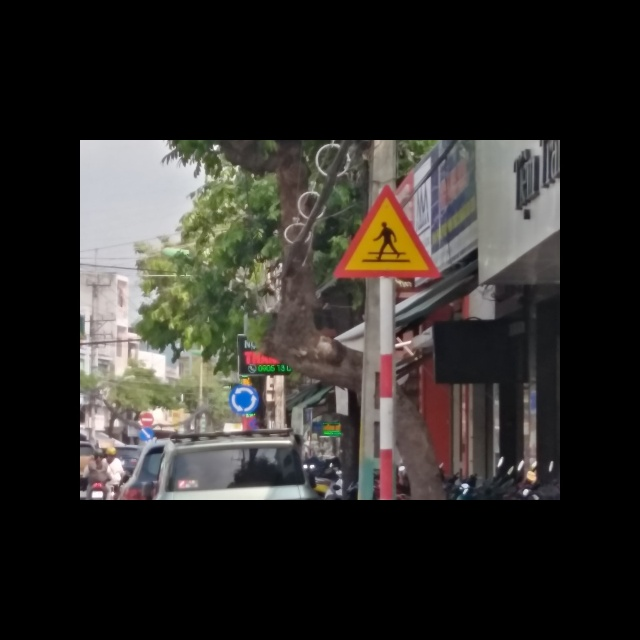Nơi giao nhau chạy theo vòng xuyến: (228, 384, 260, 413)
Đường người đi bộ sang đường: (333, 183, 444, 280)
